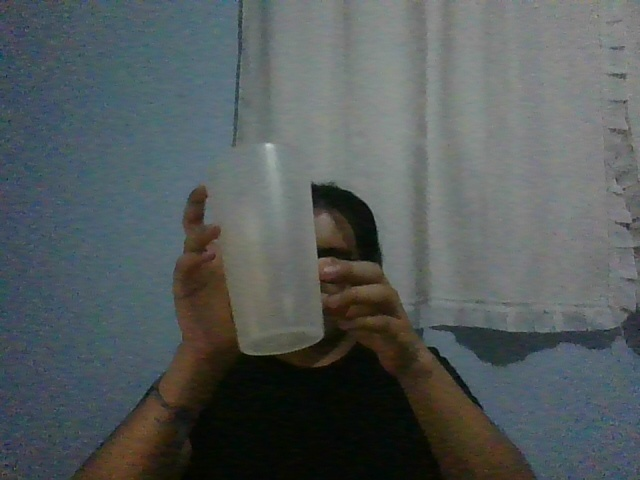vaso: (205, 142, 325, 356)
